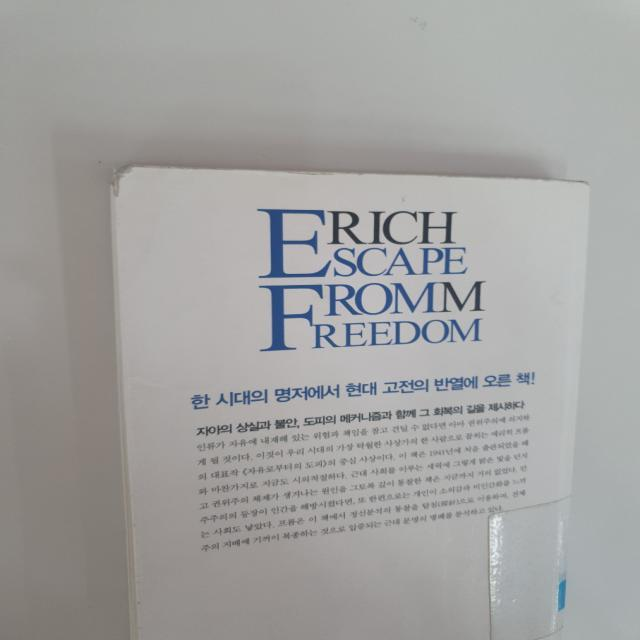Ripped: (104, 159, 175, 201)
Wornout: (385, 169, 594, 197), (262, 164, 372, 179)
